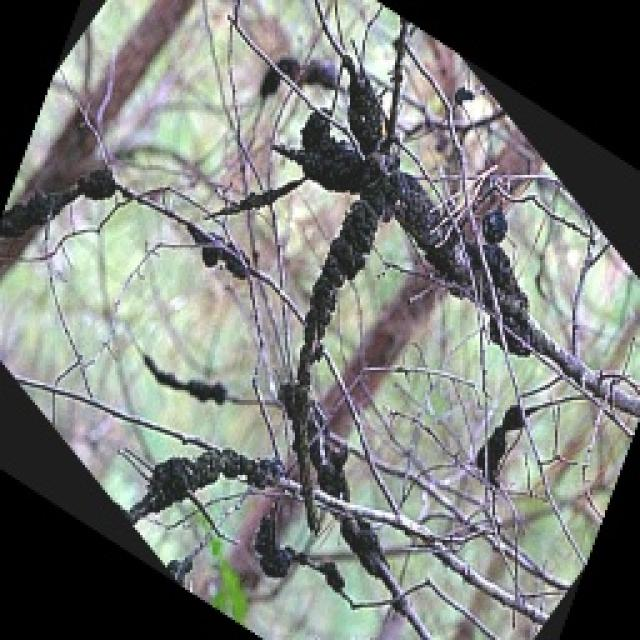Black_knot: (212, 36, 568, 390), (120, 412, 378, 596), (453, 422, 568, 493)
